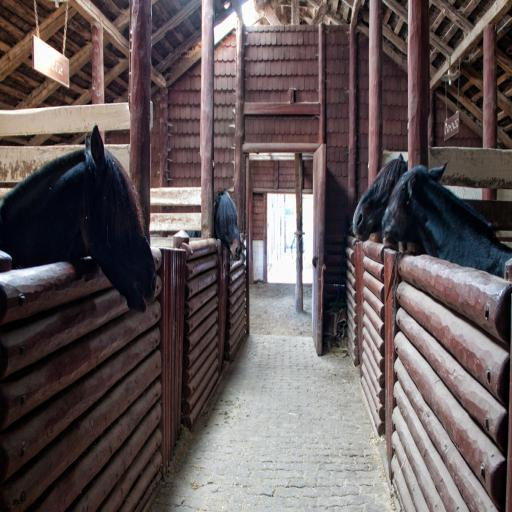horse: (0, 121, 158, 313), (378, 161, 512, 278), (354, 152, 406, 241), (186, 188, 242, 260)
